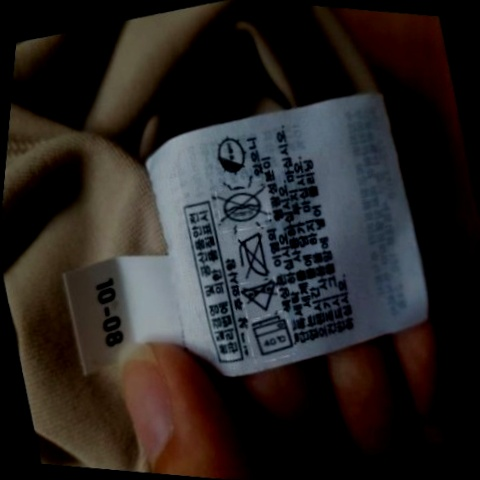40C: (246, 313, 297, 359)
DN_dry_clean: (216, 181, 274, 230)
DN_iron: (230, 227, 276, 285)
line_dry_in_shade: (209, 129, 252, 180)
non_chlorine_bleach: (242, 273, 283, 316)
